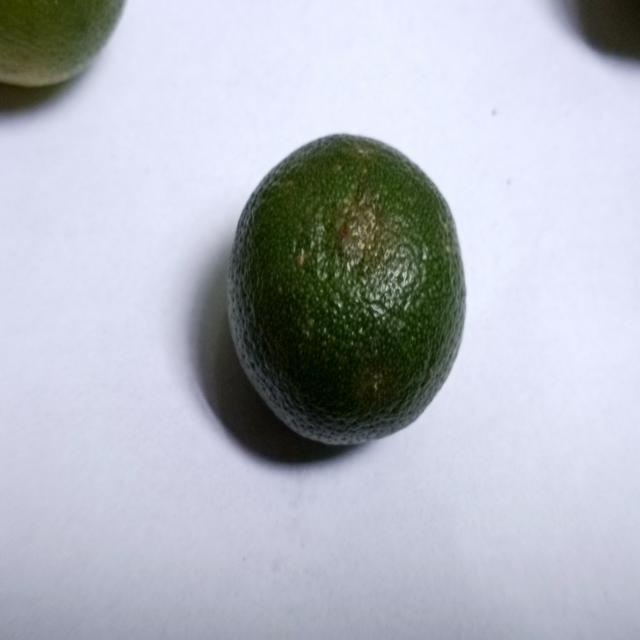heathy: (224, 134, 466, 451)
